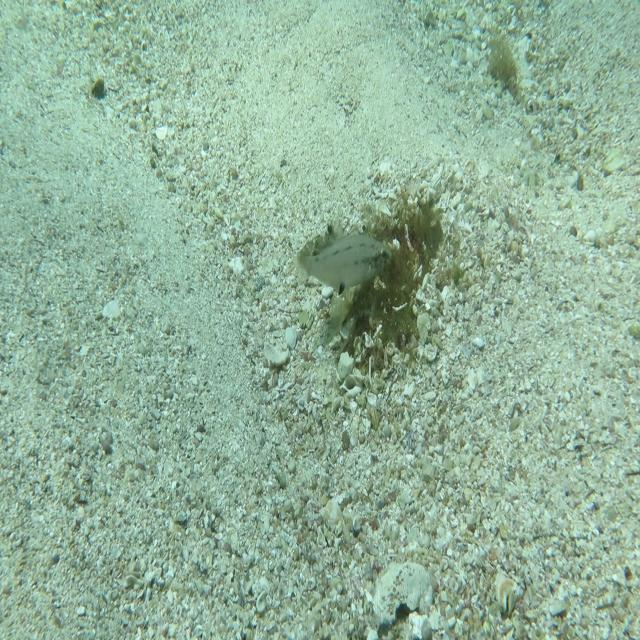BEND: (297, 216, 364, 337)
female: (293, 231, 393, 301)
nest: (310, 172, 464, 392)
